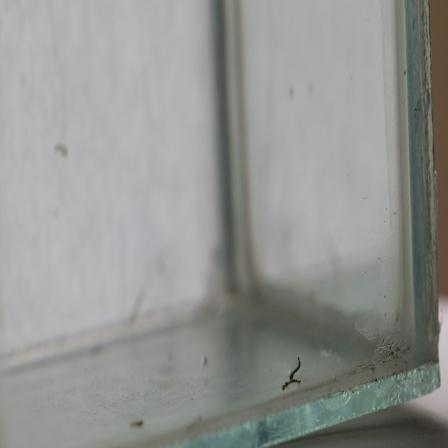Jentik-Nyamuk: (279, 352, 307, 391)
